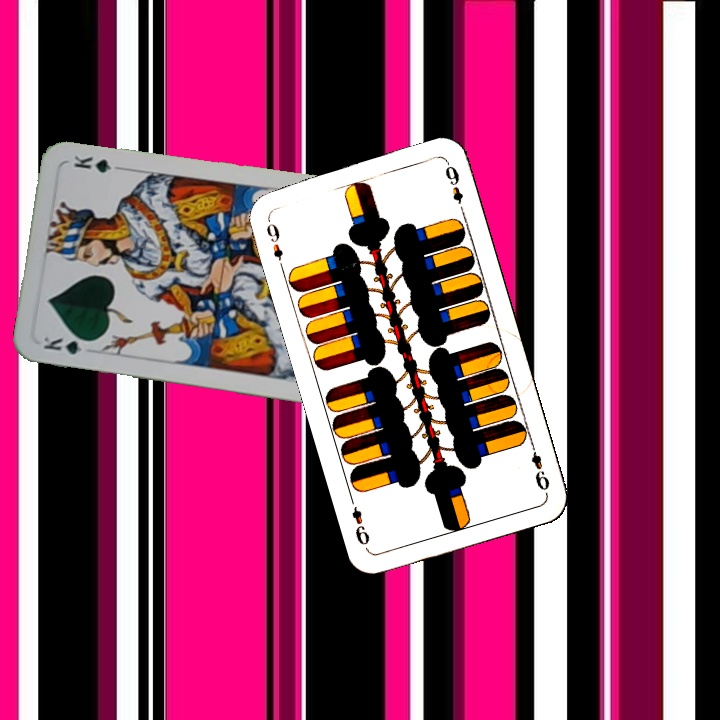E9: (526, 438, 553, 496), (262, 214, 287, 272)
GK: (39, 332, 97, 357)
